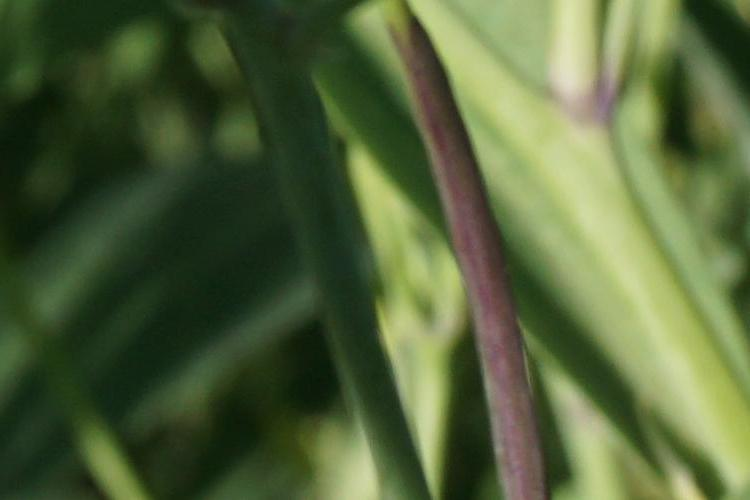pod: (401, 20, 565, 482)
